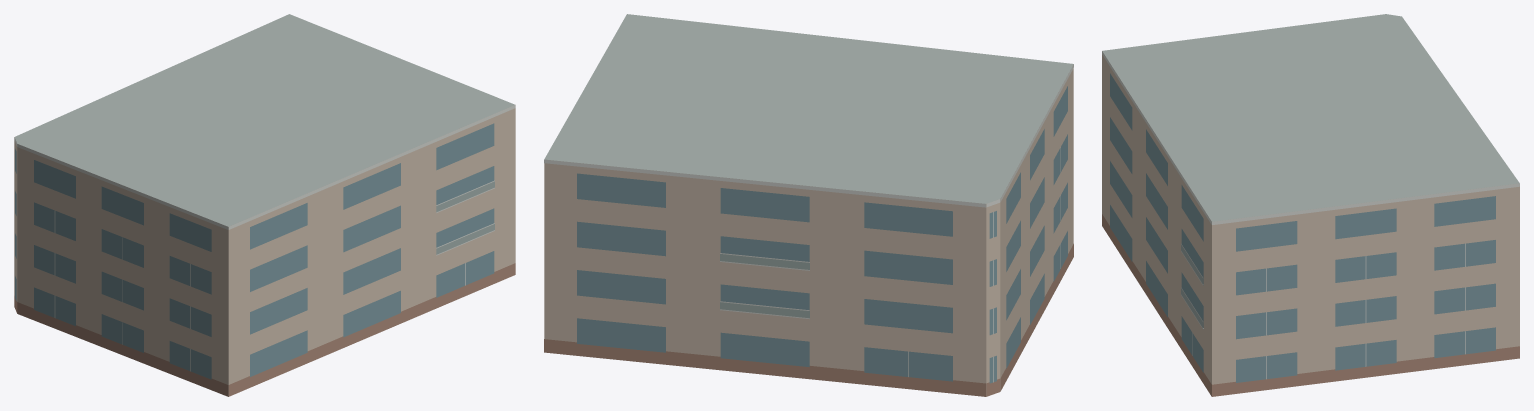
Rendered from survey-upis-32967867.glb.
3 views of the same model, side by side, from view 1: azimuth 30°, elevation 25°; view 2: azimuth 150°, elevation 25°; view 3: azimuth 270°, elevation 25° (orthographic). The views are drawn at different scales.
Parts seen in each view (by area): view 1: survey-upis-32967867.tmp; view 2: survey-upis-32967867.tmp; view 3: survey-upis-32967867.tmp.
Boxes of the visible parts, x1,y1,x2,y2 form: survey-upis-32967867.tmp: (14, 14, 515, 396); survey-upis-32967867.tmp: (544, 14, 1073, 396); survey-upis-32967867.tmp: (1102, 14, 1519, 396).
Size of the model in its own units: 32.33 by 12.7 by 27.47.
